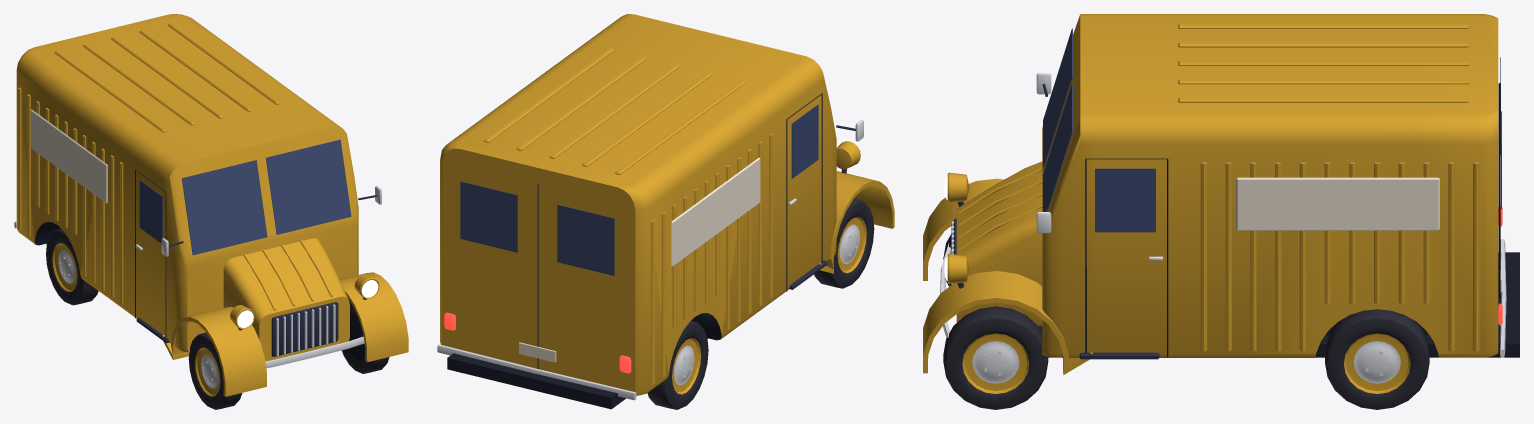
The model's file is van.glb.
The picture shows the model from 3 angles, left to right: view 1: azimuth 30°, elevation 25°; view 2: azimuth 150°, elevation 25°; view 3: azimuth 270°, elevation 25°; orthographic projection. The views are drawn at different scales.
Visible parts, largest first — view 1: body, wheel_rr, wheel_fr, wheel_fl; view 2: body, wheel_rr, wheel_fr; view 3: body, wheel_fl, wheel_rl.
Boxes of the visible parts, box(x1,y1,x2,y2) form: body: box(14, 14, 408, 396); wheel_rr: box(46, 228, 98, 305); wheel_fr: box(188, 332, 242, 409); wheel_fl: box(341, 299, 389, 373); body: box(437, 14, 894, 409); wheel_rr: box(647, 321, 708, 409); wheel_fr: box(814, 199, 874, 288); body: box(923, 14, 1519, 374); wheel_fl: box(943, 306, 1048, 409); wheel_rl: box(1325, 309, 1429, 409).
Size of the model in its own units: 2.29 by 2.24 by 4.1.
3 materials, 3 textured.
